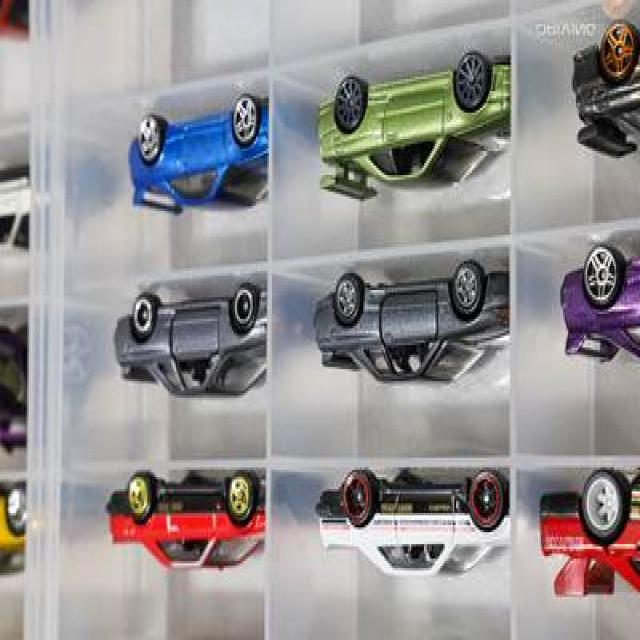Car: (317, 53, 510, 204), (312, 262, 510, 388), (316, 467, 510, 580), (114, 283, 267, 400), (126, 94, 269, 218), (106, 472, 266, 573), (538, 469, 638, 602), (560, 245, 638, 366), (572, 22, 638, 163)
